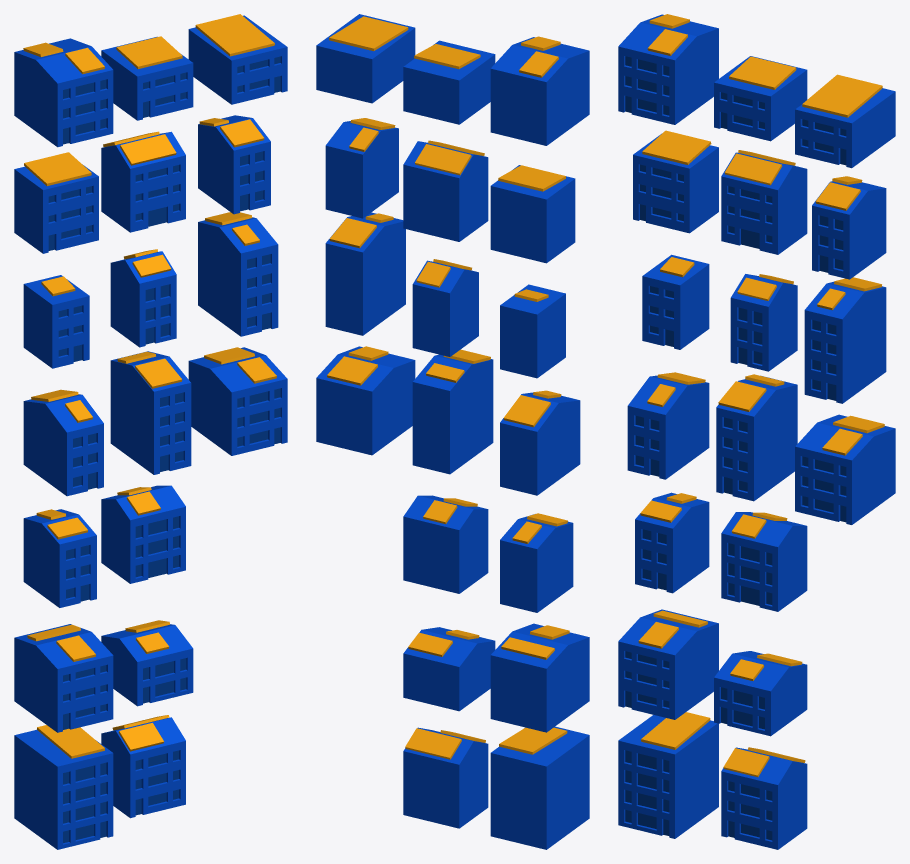
The model's file is Ghost.gltf.
3 views of the same model, side by side, from view 1: azimuth 30°, elevation 25°; view 2: azimuth 150°, elevation 25°; view 3: azimuth 330°, elevation 25° (orthographic).
Visible parts, largest first — view 1: Building_006.005, Building_000.005, Building_005.010, Building_017_RoofCap_0.001, Building_010.005, Building_016.010, Building_008_RoofCap_0.001, Building_011.005, Building_001_RoofCap_0.001, Building_003.005, Building_014_RoofCap_0.001, Building_013.005 (+6 smaller); view 2: Building_006.005, Building_005.010, Building_000.005, Building_017_RoofCap_0.001, Building_010.005, Building_016.010, Building_008_RoofCap_0.001, Building_013.005, Building_011.005, Building_001_RoofCap_0.001, Building_003.005, Building_014_RoofCap_0.001 (+6 smaller); view 3: Building_006.005, Building_017_RoofCap_0.001, Building_000.005, Building_005.010, Building_016.010, Building_010.005, Building_013.005, Building_008_RoofCap_0.001, Building_011.005, Building_003.005, Building_001_RoofCap_0.001, Building_014_RoofCap_0.001 (+6 smaller).
Part boxes in pixels (x1=…): Building_006.005: x1=14, y1=725, x2=113, y2=849; Building_000.005: x1=14, y1=38, x2=113, y2=147; Building_005.010: x1=14, y1=624, x2=113, y2=732; Building_017_RoofCap_0.001: x1=188, y1=347, x2=287, y2=455; Building_010.005: x1=110, y1=351, x2=191, y2=474; Building_016.010: x1=198, y1=212, x2=278, y2=336; Building_008_RoofCap_0.001: x1=101, y1=131, x2=185, y2=232; Building_011.005: x1=101, y1=485, x2=185, y2=583; Building_001_RoofCap_0.001: x1=14, y1=152, x2=98, y2=253; Building_003.005: x1=23, y1=389, x2=103, y2=496; Building_014_RoofCap_0.001: x1=188, y1=14, x2=287, y2=104; Building_013.005: x1=101, y1=715, x2=185, y2=818; Building_006.005: x1=490, y1=726, x2=589, y2=849; Building_005.010: x1=490, y1=623, x2=589, y2=732; Building_000.005: x1=490, y1=36, x2=589, y2=145; Building_017_RoofCap_0.001: x1=316, y1=346, x2=415, y2=455; Building_010.005: x1=412, y1=349, x2=493, y2=474; Building_016.010: x1=325, y1=212, x2=405, y2=335; Building_008_RoofCap_0.001: x1=403, y1=140, x2=488, y2=241; Building_013.005: x1=403, y1=727, x2=488, y2=828; Building_011.005: x1=403, y1=495, x2=488, y2=593; Building_001_RoofCap_0.001: x1=490, y1=165, x2=575, y2=263; Building_003.005: x1=500, y1=390, x2=580, y2=495; Building_014_RoofCap_0.001: x1=316, y1=14, x2=415, y2=103; Building_006.005: x1=618, y1=712, x2=718, y2=838; Building_017_RoofCap_0.001: x1=795, y1=414, x2=895, y2=524; Building_000.005: x1=618, y1=14, x2=718, y2=124; Building_005.010: x1=618, y1=609, x2=718, y2=719; Building_016.010: x1=804, y1=277, x2=886, y2=403; Building_010.005: x1=716, y1=374, x2=797, y2=501; Building_013.005: x1=721, y1=747, x2=807, y2=849; Building_008_RoofCap_0.001: x1=721, y1=150, x2=807, y2=254; Building_011.005: x1=721, y1=512, x2=807, y2=611; Building_003.005: x1=627, y1=372, x2=709, y2=479; Building_001_RoofCap_0.001: x1=633, y1=130, x2=718, y2=233; Building_014_RoofCap_0.001: x1=795, y1=74, x2=895, y2=168.
Bounding box in the file's own units: 0.2011 × 0.6484 × 0.0652.
